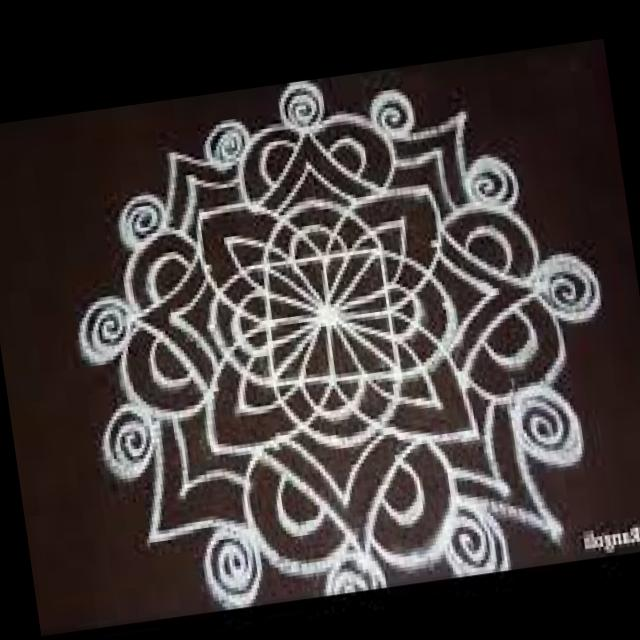rangoli: (43, 41, 640, 625)
